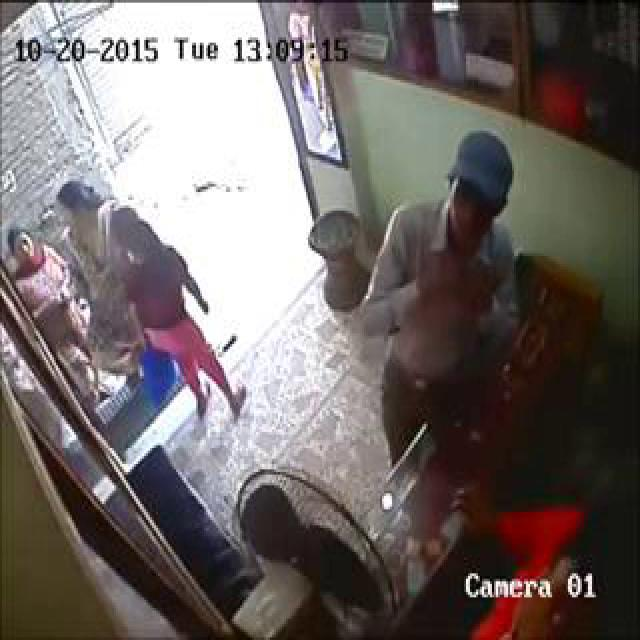shoplifting: (288, 125, 559, 582)
